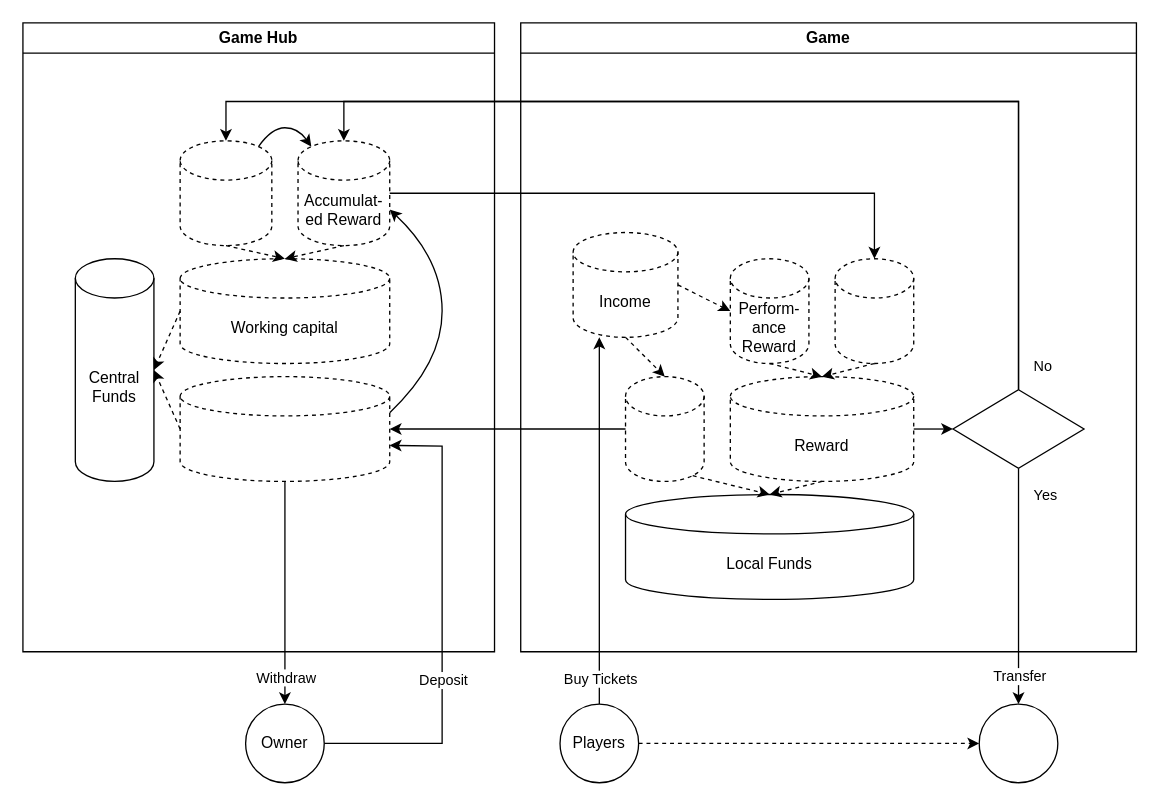
Some shapes in this 1159 by 806 pixel diagram are drawn without their labels. The centre of each missing label's shape, as x and y in pixels:
"Base Reward" belongs at (x=874, y=310).
"Fees" belongs at (x=664, y=428).
"Has winners?" belongs at (x=1018, y=428).
"Profits" belongs at (x=284, y=428).
"Reserve" belongs at (x=225, y=193).
"Winners" belongs at (x=1018, y=743).
